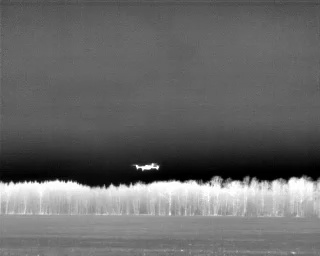DRONE: (130, 158, 163, 175)
